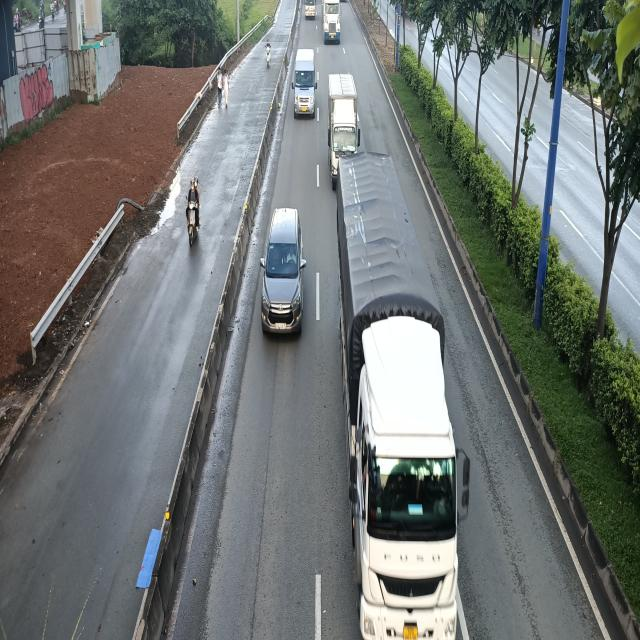car: (260, 210, 306, 338)
container: (322, 0, 342, 44)
truck: (342, 158, 472, 640), (328, 74, 363, 191)
van: (292, 47, 318, 118)
